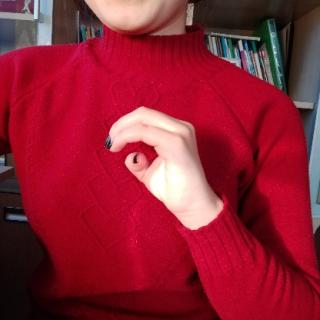JEEM: (100, 103, 221, 211)
